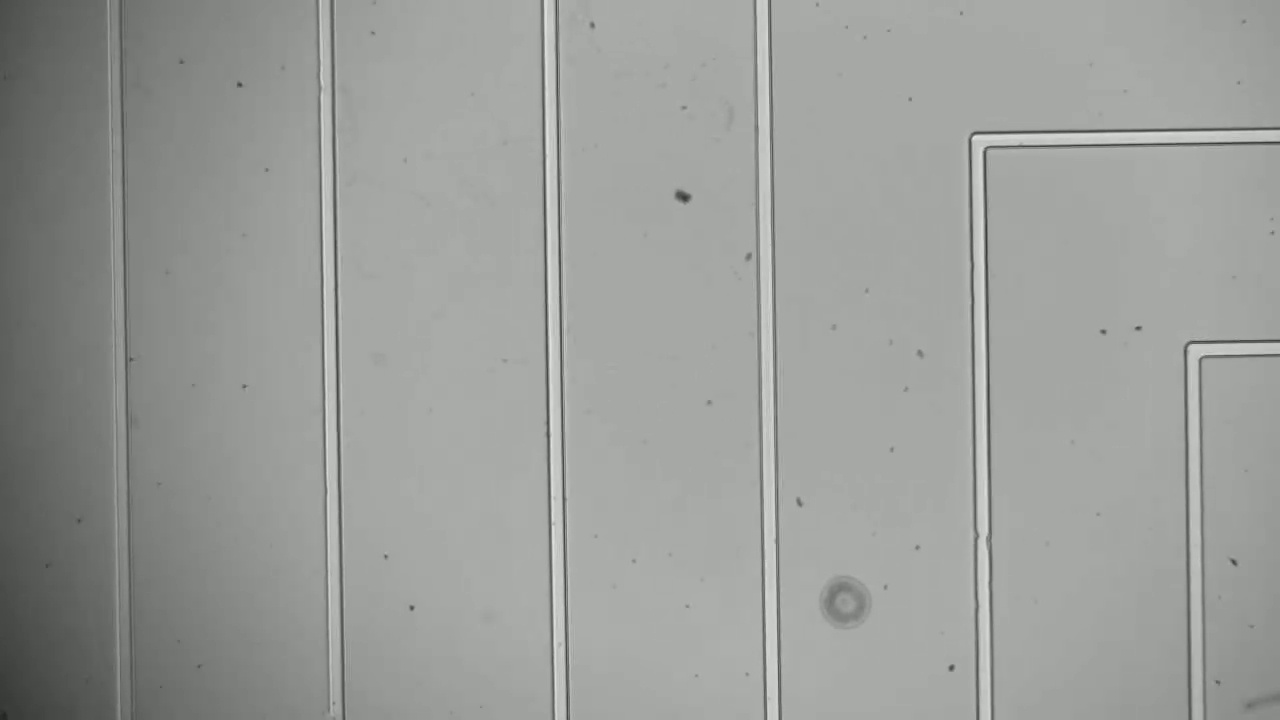edge_bite: (963, 515, 998, 560)
